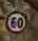limite 60: (4, 9, 28, 34)
